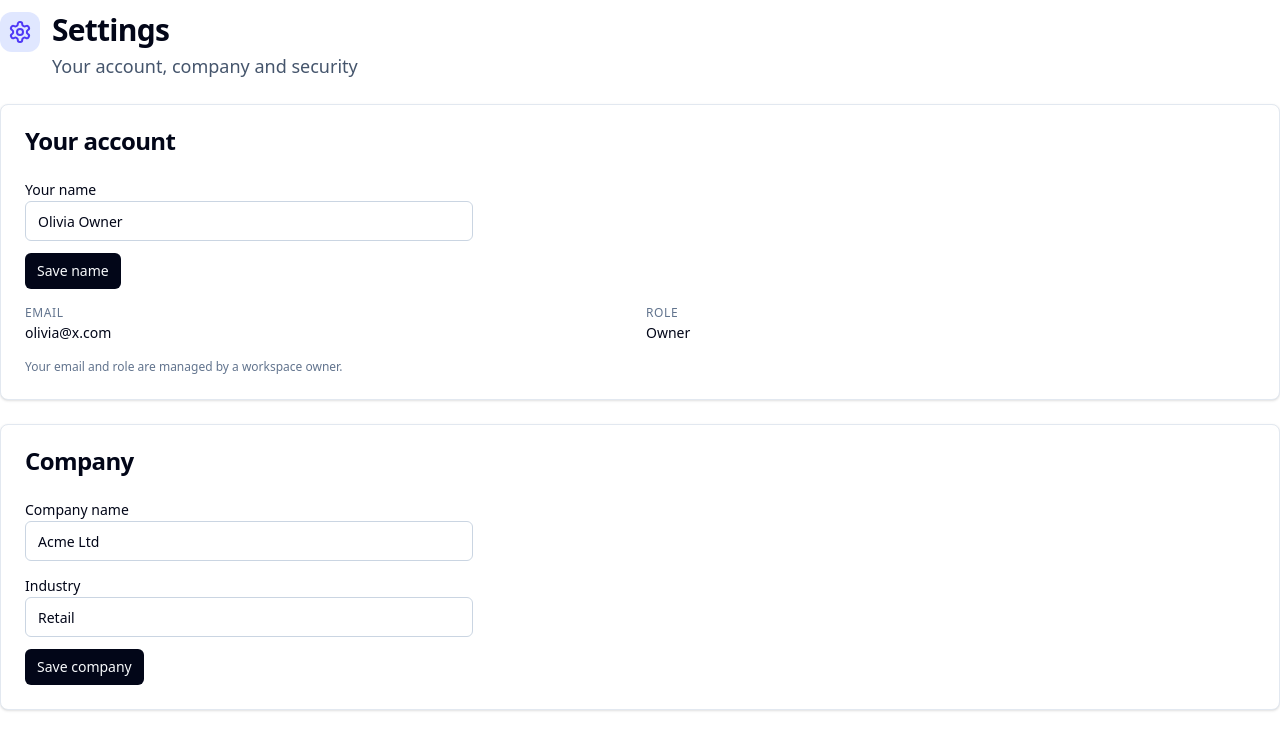
SettingsPage: your account › refuses a too-short name and shows server errors without changing anything
Replace the text in the field labelled "Your name" with "O". click: (249, 221)
box: left=25, top=201, right=473, bottom=241
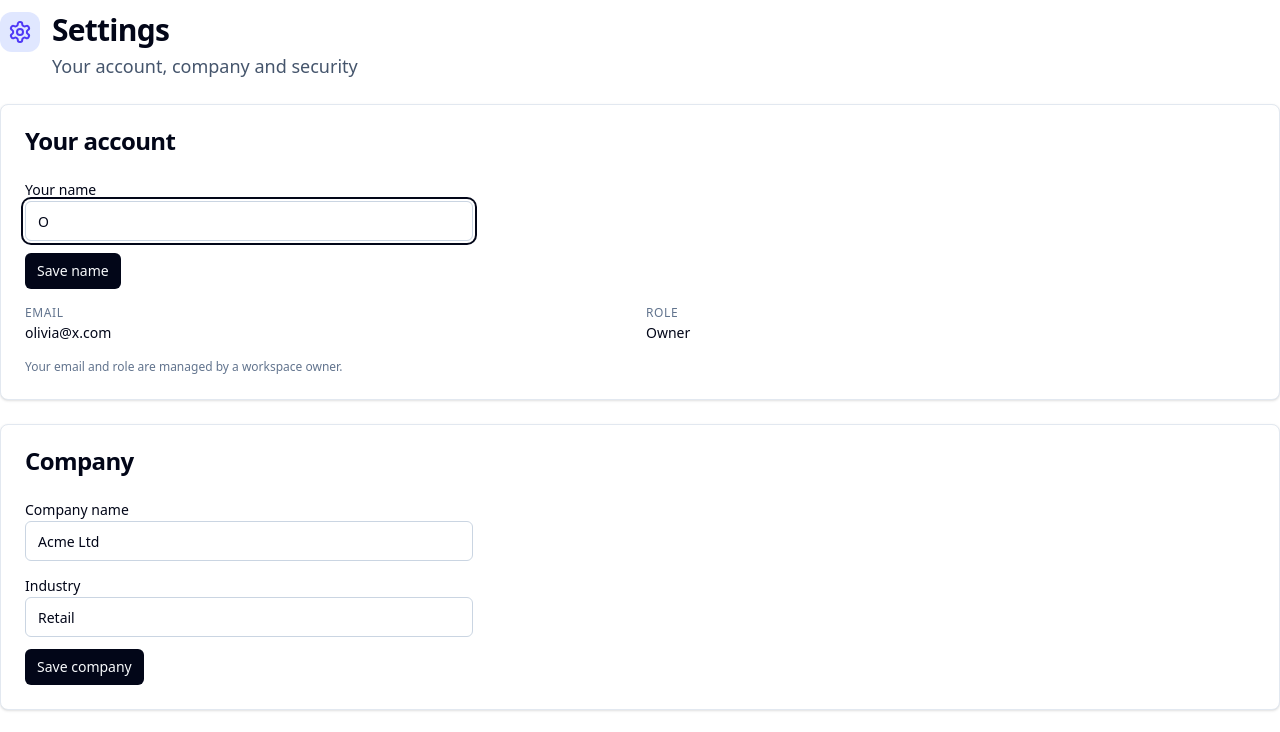
Click the button "Save name". click: (73, 271)
box: left=25, top=253, right=121, bottom=289
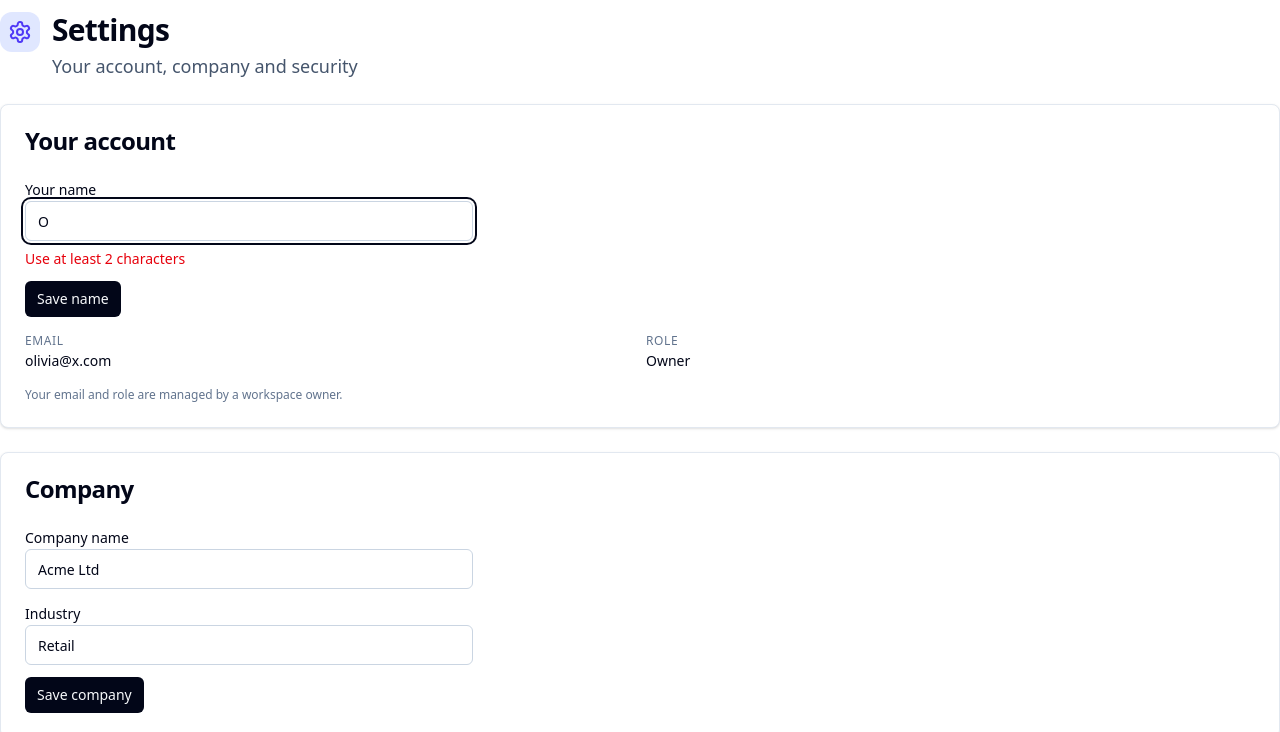
Now the text "Use at least 2 characters" is shown, box left=25, top=249, right=185, bottom=268
Type "k" into the field labelled "Your name". click: (249, 221)
box: left=25, top=201, right=473, bottom=241
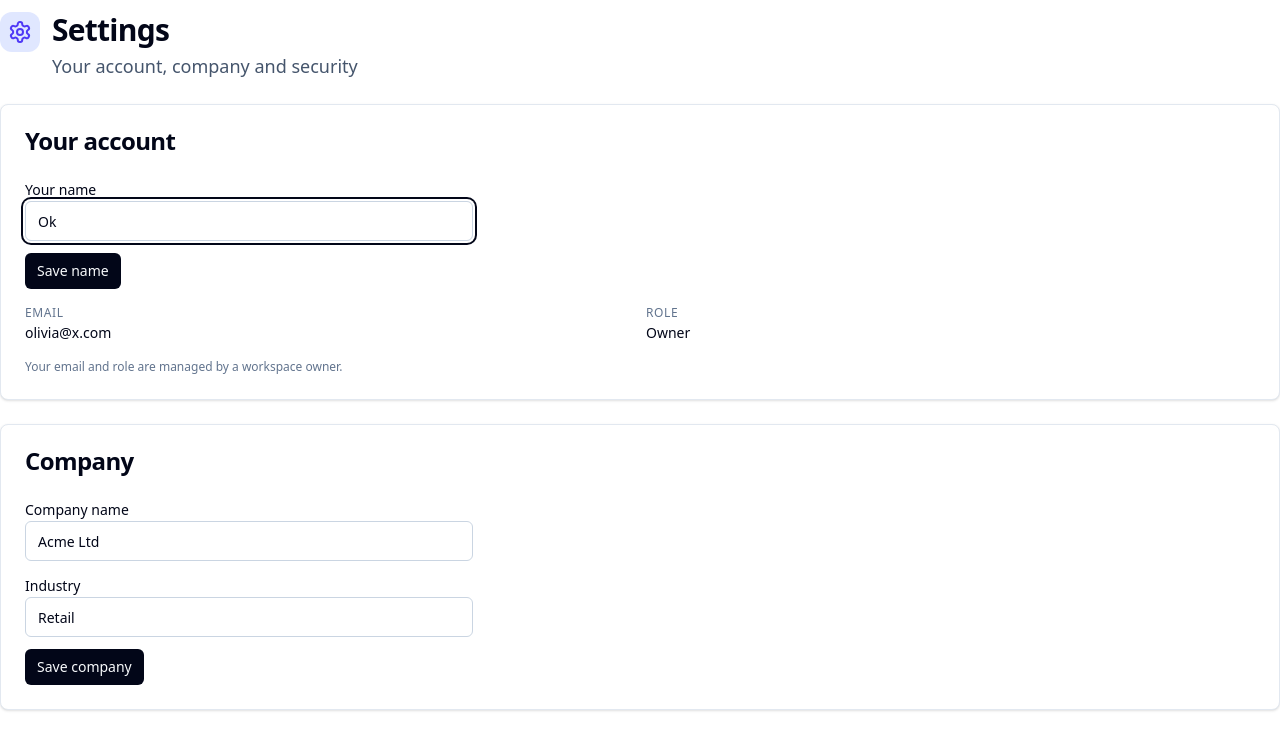
Click the button "Save name". click: (73, 271)
box: left=25, top=253, right=121, bottom=289
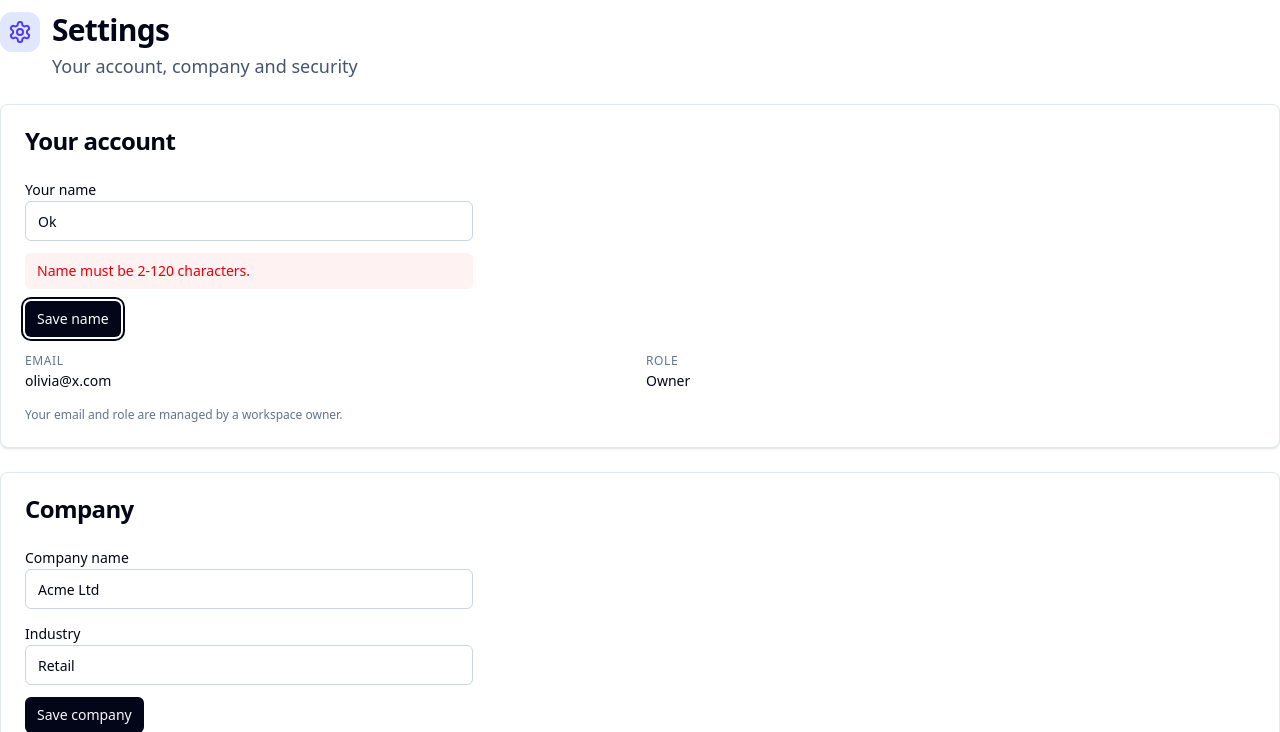
Now the text "Name must be 2-120 characters." is shown, box left=25, top=253, right=473, bottom=289
